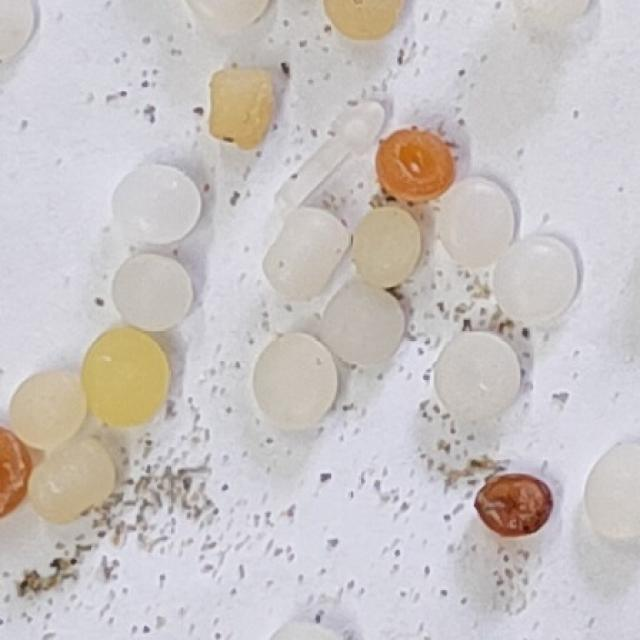beads: (233, 319, 358, 444), (98, 148, 214, 264), (14, 427, 129, 541), (425, 165, 533, 278), (424, 324, 531, 431), (487, 228, 592, 332), (77, 323, 176, 433), (317, 277, 411, 373), (0, 367, 94, 458), (349, 202, 427, 291), (111, 251, 195, 333), (376, 124, 457, 205), (472, 469, 558, 545)
fragments: (260, 90, 399, 213), (252, 195, 360, 311), (210, 69, 273, 149)
